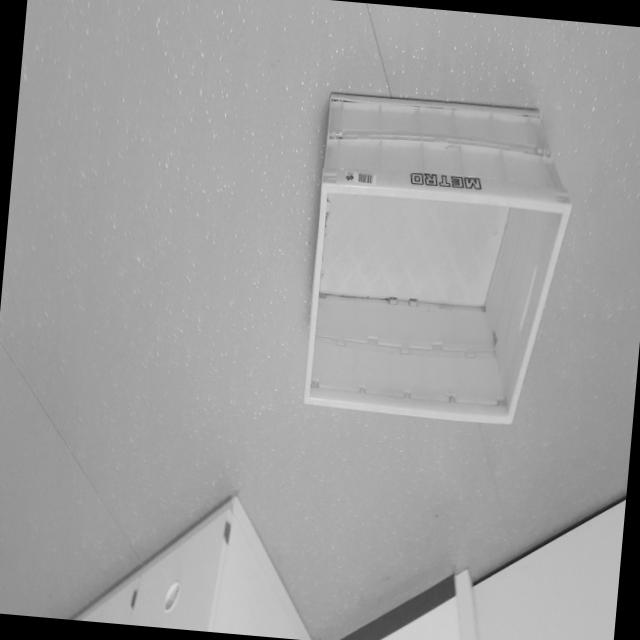box: (282, 66, 592, 464)
